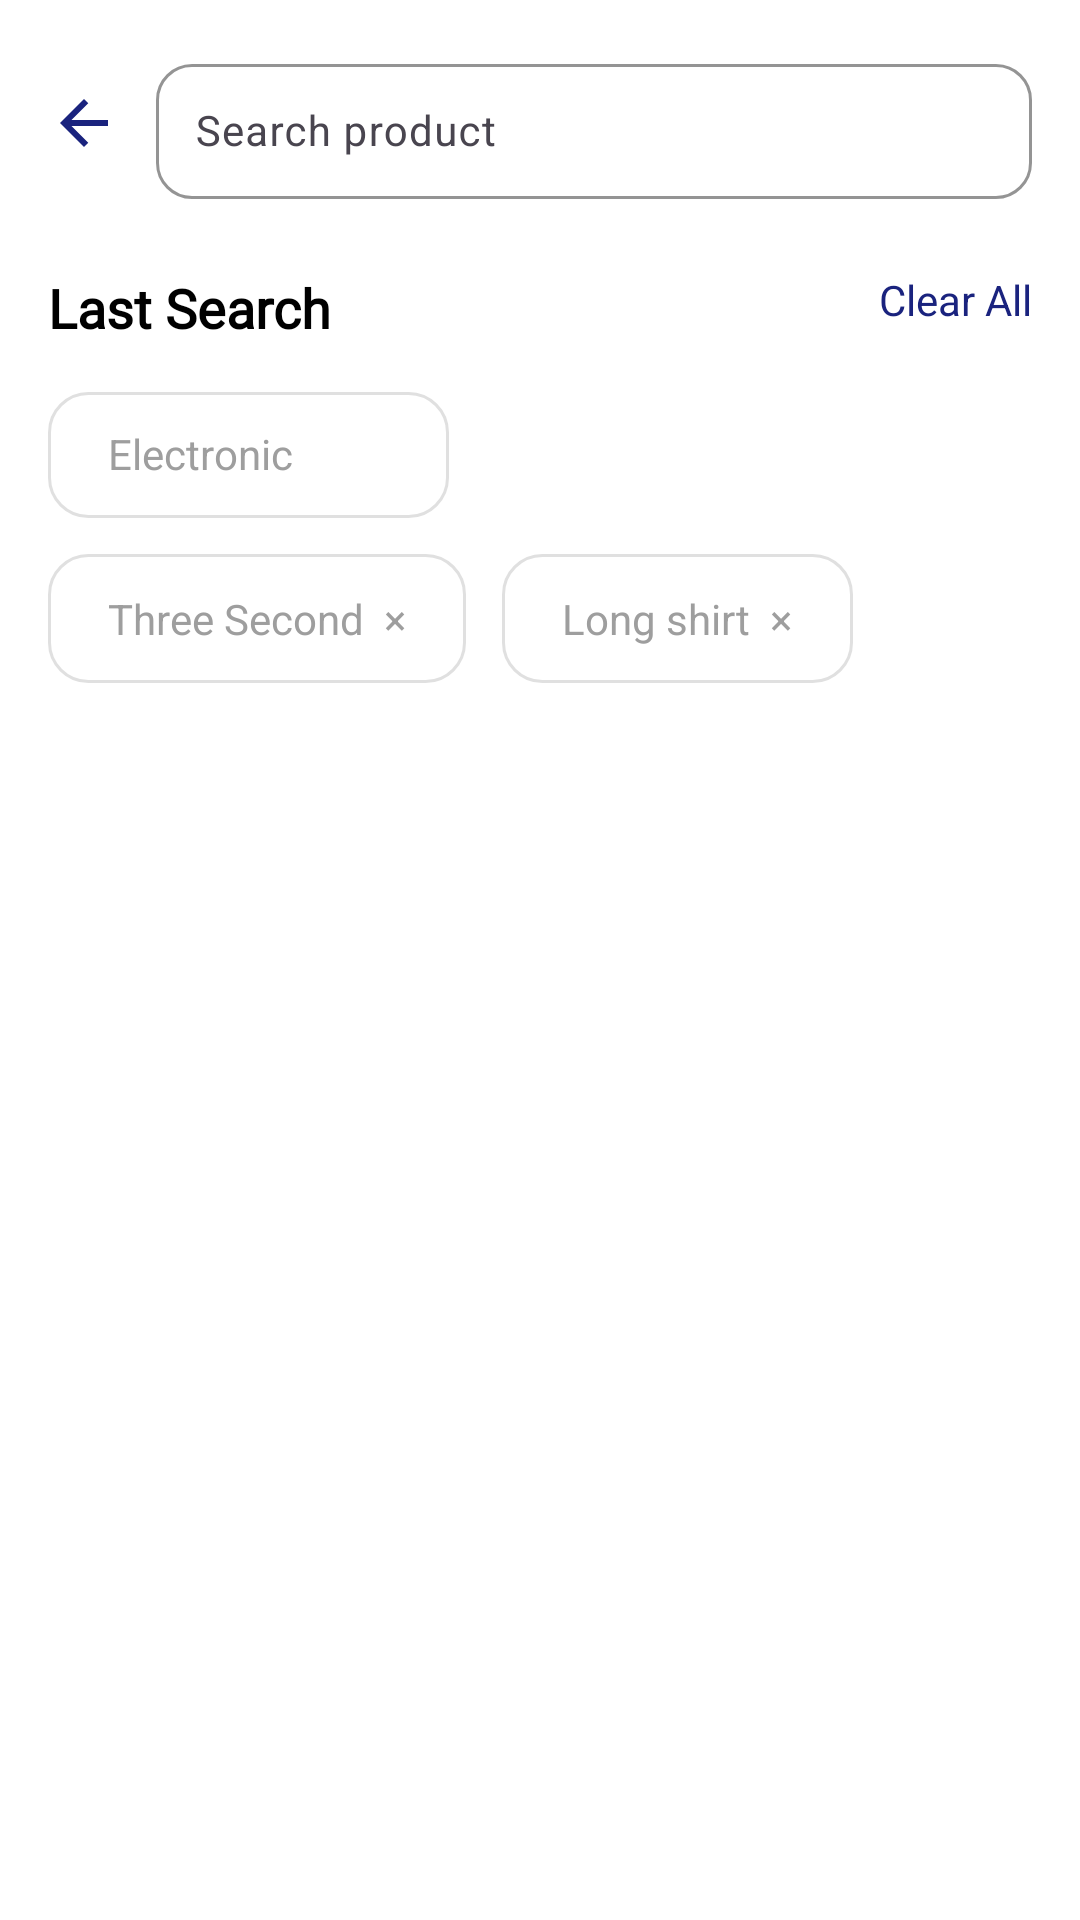

Where icons sit on this 1080w x 1920h app screen, as (x1, y1, x2, y2):
arrow back: (60, 99, 108, 147)
